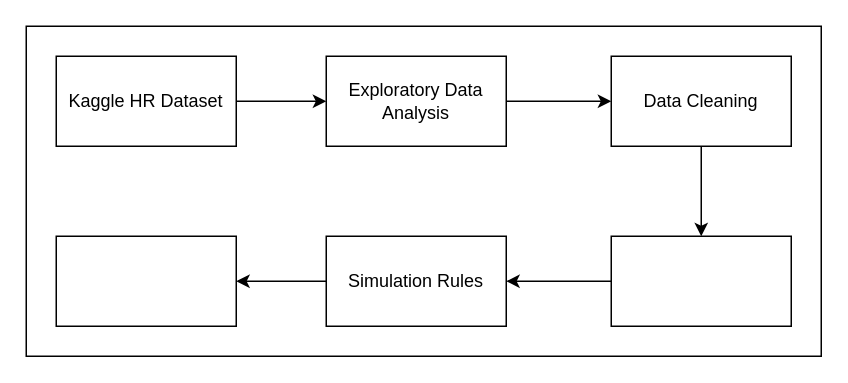
Image size: 848x383. Some labels were removed from this diagram. The shapes that lost their labels are listed below. From the top down, each one's centre as x and y in pixels, then its label:
At [145,280]: "84 monthly CSV Snapshot".
At [700,280]: "Initial Employee Snapshot".
